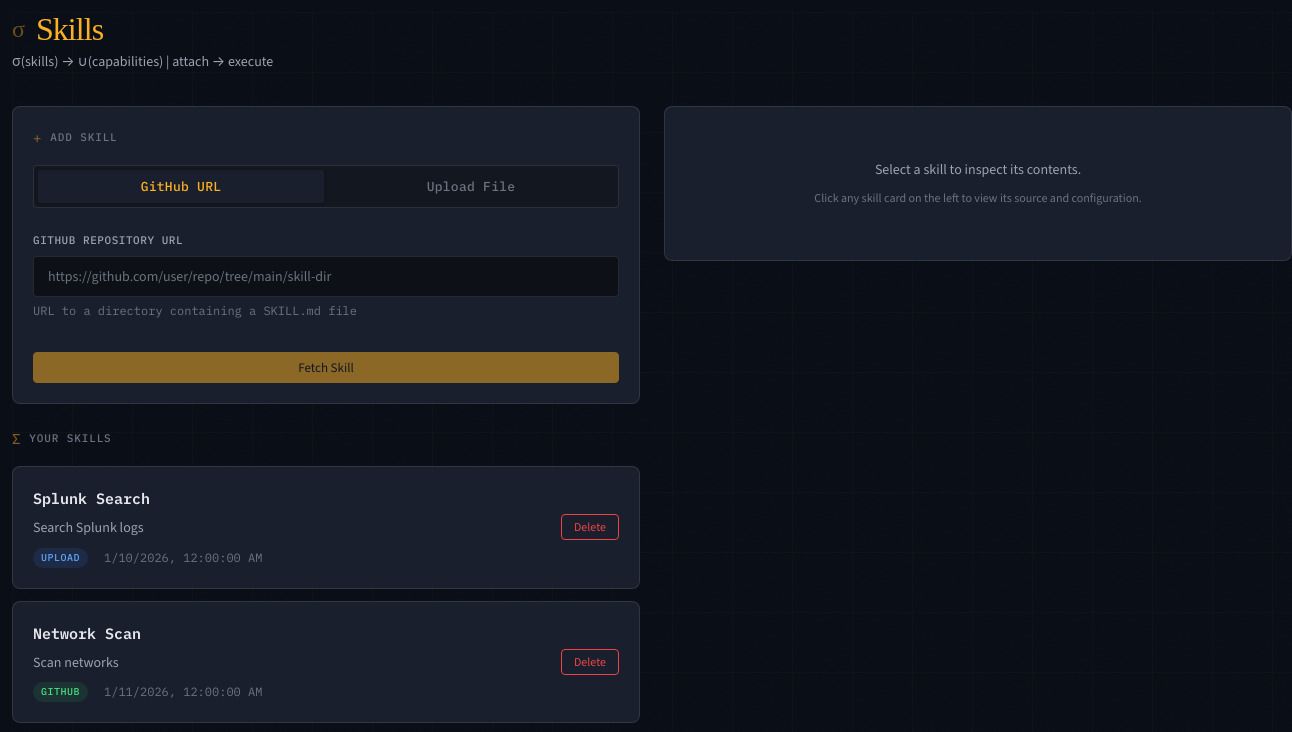
Skills page › shows skill detail when clicking a skill card
The width and height of the screenshot is (1292, 732).
Click the skill card
Click the heading "Splunk Search". click: (92, 499)
box: [33, 489, 150, 508]
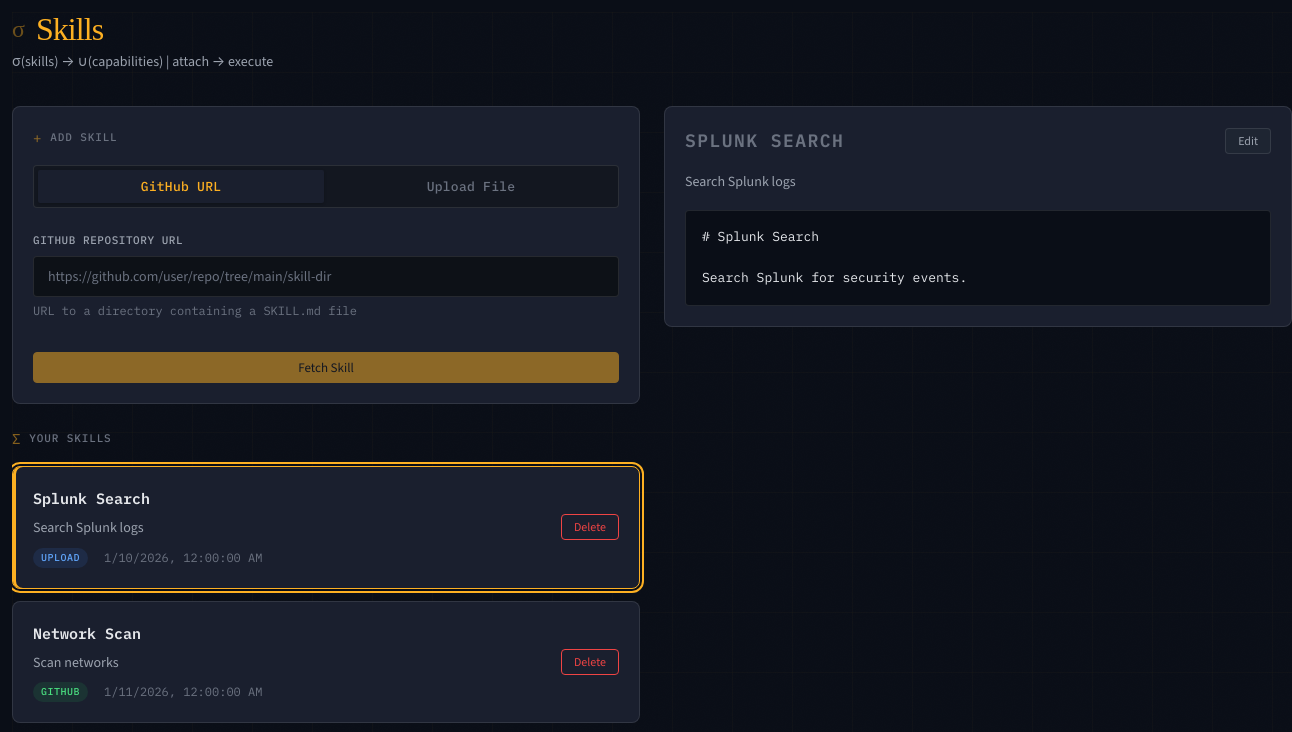
Expected: the button "Edit" is shown, [1225, 128, 1271, 154]
